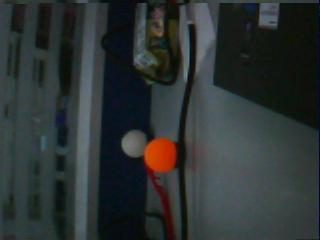oball: (143, 138, 176, 172)
